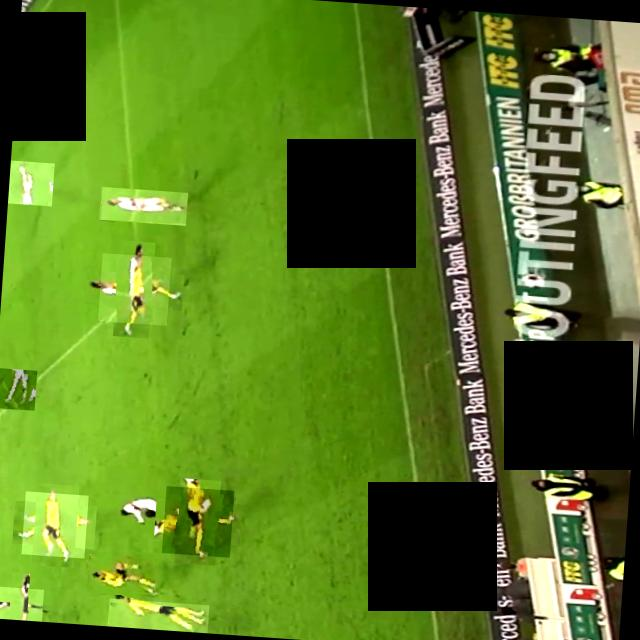referee: (0, 585, 43, 621)
soccer-player: (98, 252, 172, 324), (161, 484, 234, 556), (21, 490, 88, 557), (107, 597, 209, 633), (99, 186, 188, 224), (86, 549, 156, 596), (8, 159, 54, 205), (0, 366, 37, 409)
